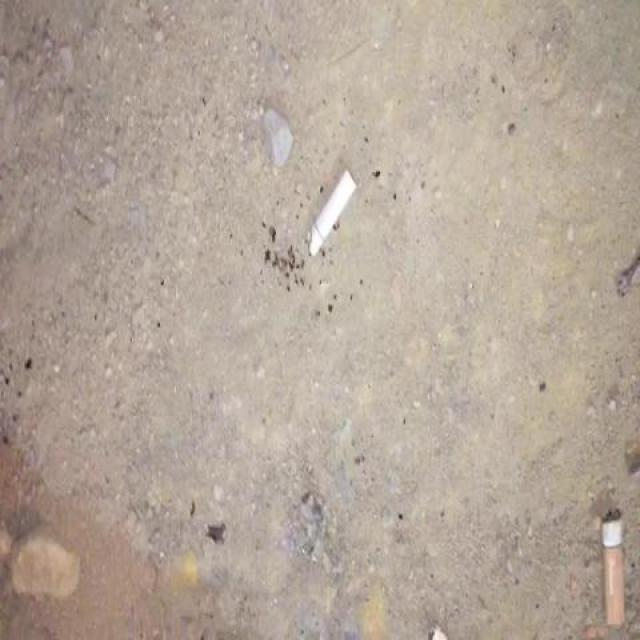non-organic waste: (304, 163, 361, 260), (599, 503, 632, 628)
